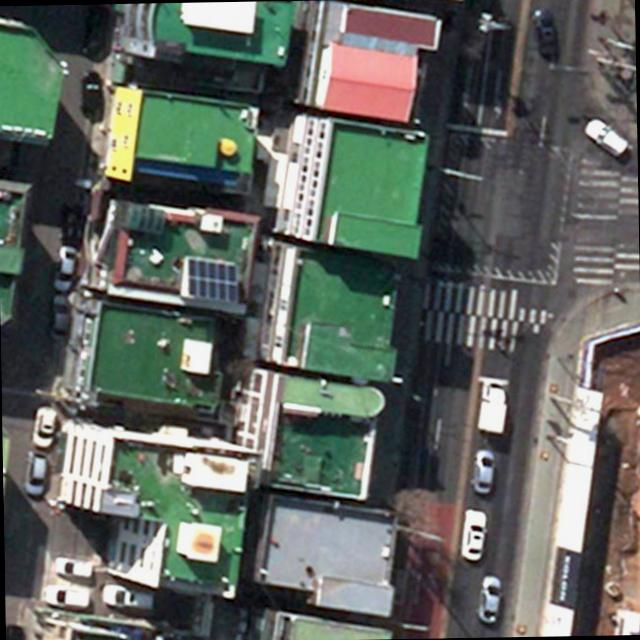solar: (182, 254, 241, 310)
